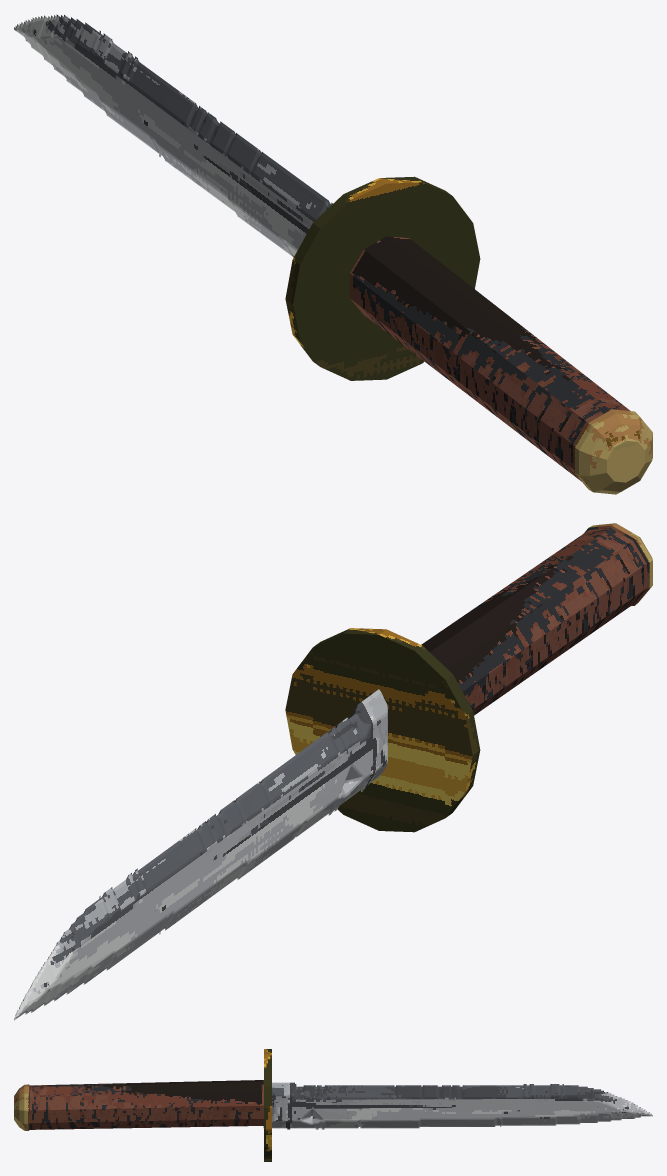
File: wakizashi.glb
3 views of the same model, one above another, from view 1: azimuth 30°, elevation 25°; view 2: azimuth 150°, elevation 25°; view 3: azimuth 270°, elevation 25° (orthographic). The views are drawn at different scales.
Parts seen in each view (by area): view 1: grip, blade, tsuba, cap; view 2: blade, tsuba, grip; view 3: blade, grip, tsuba, cap.
Boxes of the visible parts, bbox=[...] form: grip: bbox=[349, 236, 630, 481]; blade: bbox=[14, 14, 332, 257]; tsuba: bbox=[285, 176, 480, 380]; cap: bbox=[574, 409, 652, 494]; blade: bbox=[14, 689, 387, 1020]; tsuba: bbox=[285, 628, 480, 832]; grip: bbox=[421, 525, 649, 715]; blade: bbox=[263, 1082, 652, 1129]; grip: bbox=[29, 1080, 263, 1130]; tsuba: bbox=[264, 1049, 271, 1161]; cap: bbox=[14, 1084, 28, 1130].
Bounding box in the file's own units: 0.114 × 0.114 × 0.6448.
Materials: 2 (2 with a texture image).
